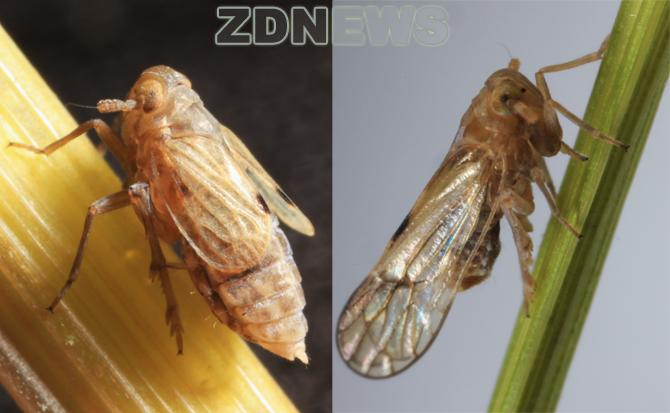Delphacidae: (335, 33, 633, 381), (8, 64, 316, 367)
